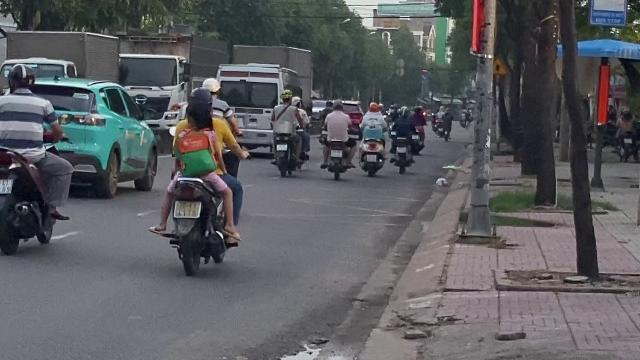helmet: (7, 64, 37, 93), (186, 88, 214, 106), (200, 78, 220, 94)
licenseplate: (174, 201, 200, 217)
motorcyclist: (151, 79, 247, 275), (0, 62, 74, 256)
nohelmet: (183, 99, 214, 141)
